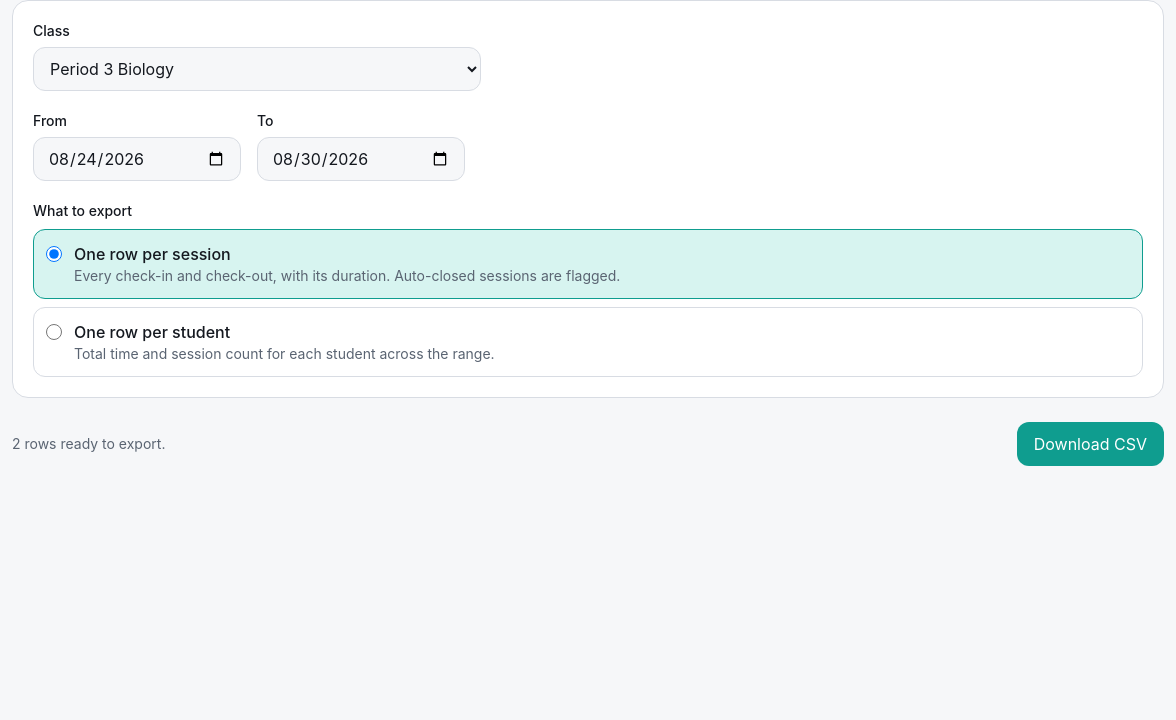
Test: ExportPanel › downloads a CSV whose contents match the preview
Expected: the text "2 rows ready to export." is shown, [12, 435, 165, 452]
Click the button "Download CSV" at x=1090, y=444, box [1017, 422, 1164, 466]
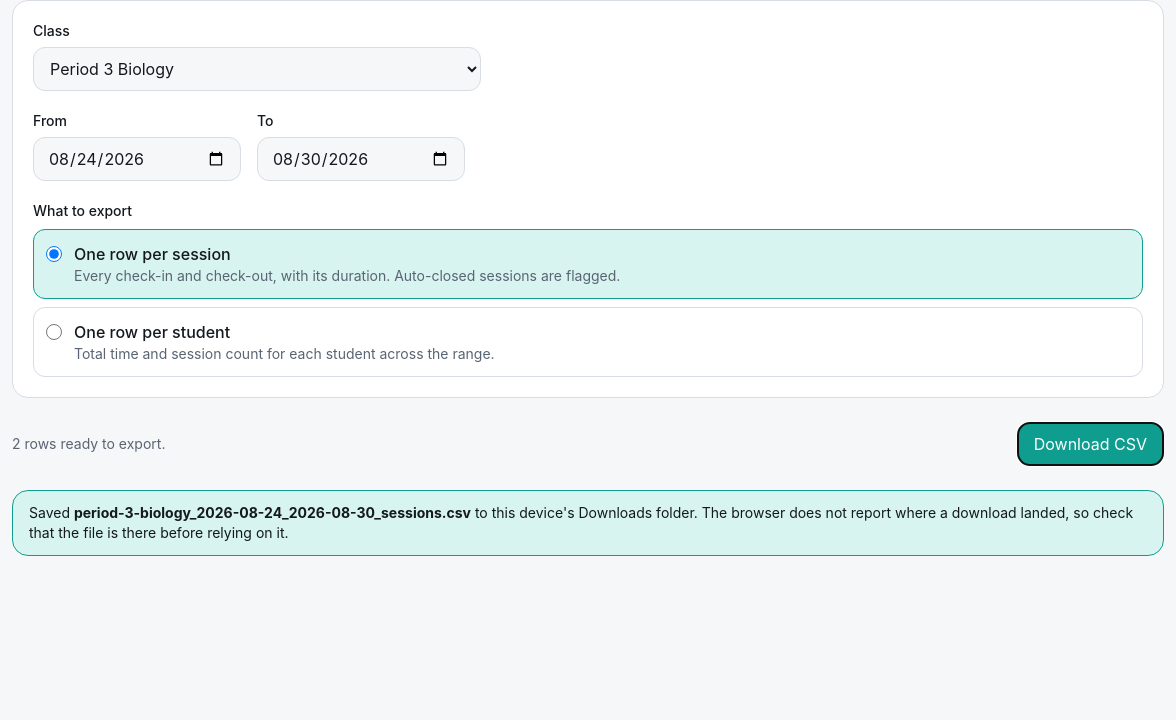
Expected: the text "period-3-biology_2026-08-24_2026-08-30_sessions.csv" is shown, [74, 504, 471, 521]
Expected: the text "does not report where a download landed" is shown, [29, 504, 1133, 541]
